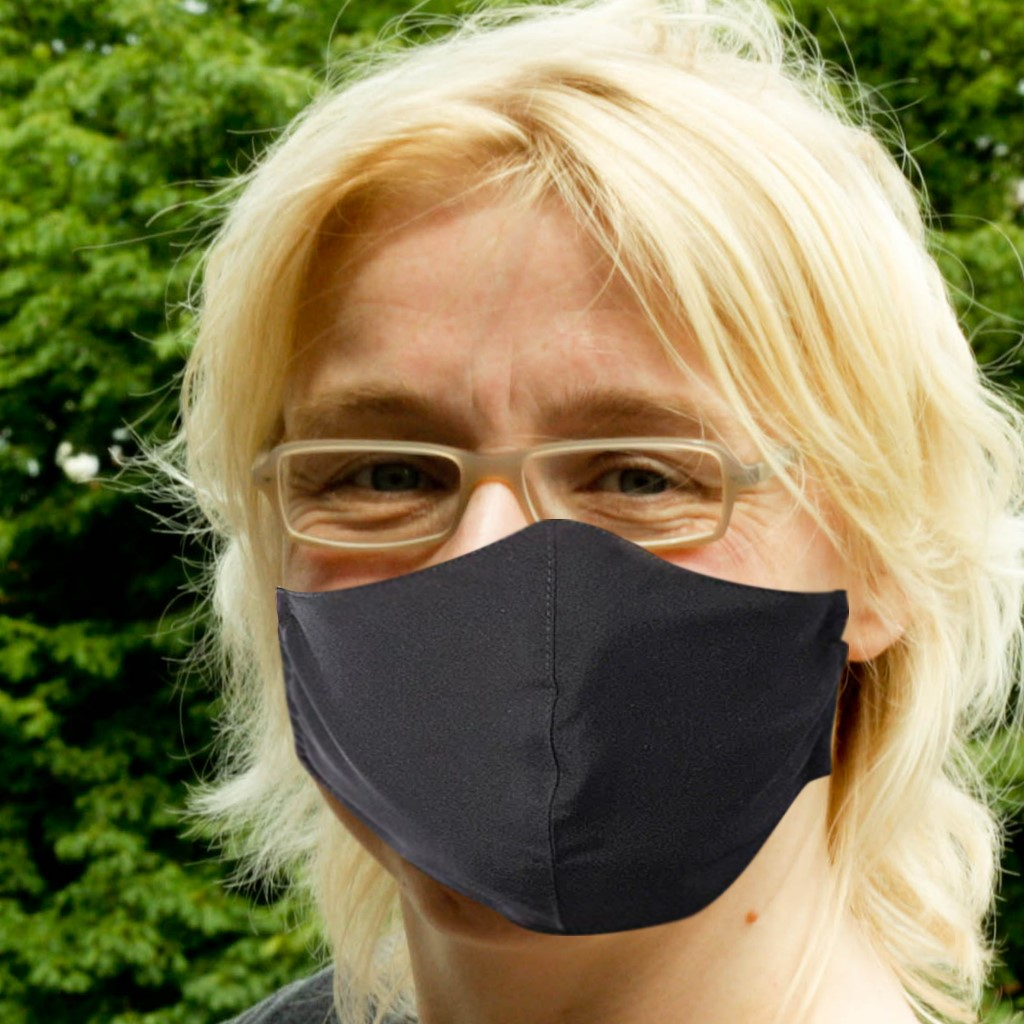con_mascara: (255, 158, 845, 970)
